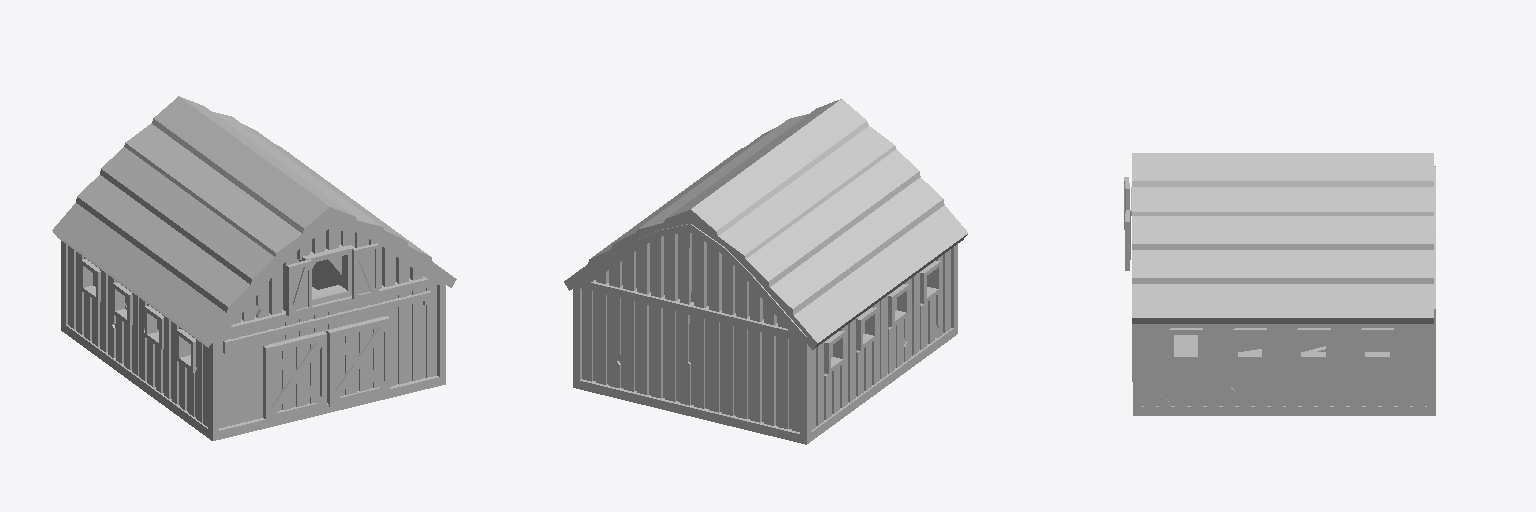
Rendered from Barn.obj.
3 renders of one model, left to right at view 1: azimuth 30°, elevation 25°; view 2: azimuth 150°, elevation 25°; view 3: azimuth 270°, elevation 25°, orthographic.
Visible parts, largest first — view 1: Barn_Cube.005, Barn_Door2_Cube.007, Barn_Door_Cube.002, Barn_Window_Cube, Barn_Window2_Cube.014; view 2: Barn_Cube.005; view 3: Barn_Cube.005.
Part boxes in pixels (x1,y1,x2,y2): Barn_Cube.005: (52, 96, 456, 440); Barn_Door2_Cube.007: (263, 331, 326, 421); Barn_Door_Cube.002: (326, 316, 389, 406); Barn_Window_Cube: (352, 243, 378, 299); Barn_Window2_Cube.014: (286, 259, 311, 315); Barn_Cube.005: (564, 99, 967, 444); Barn_Cube.005: (1131, 153, 1435, 415).
Size of the model in its own units: 7.73 by 6.01 by 8.22.